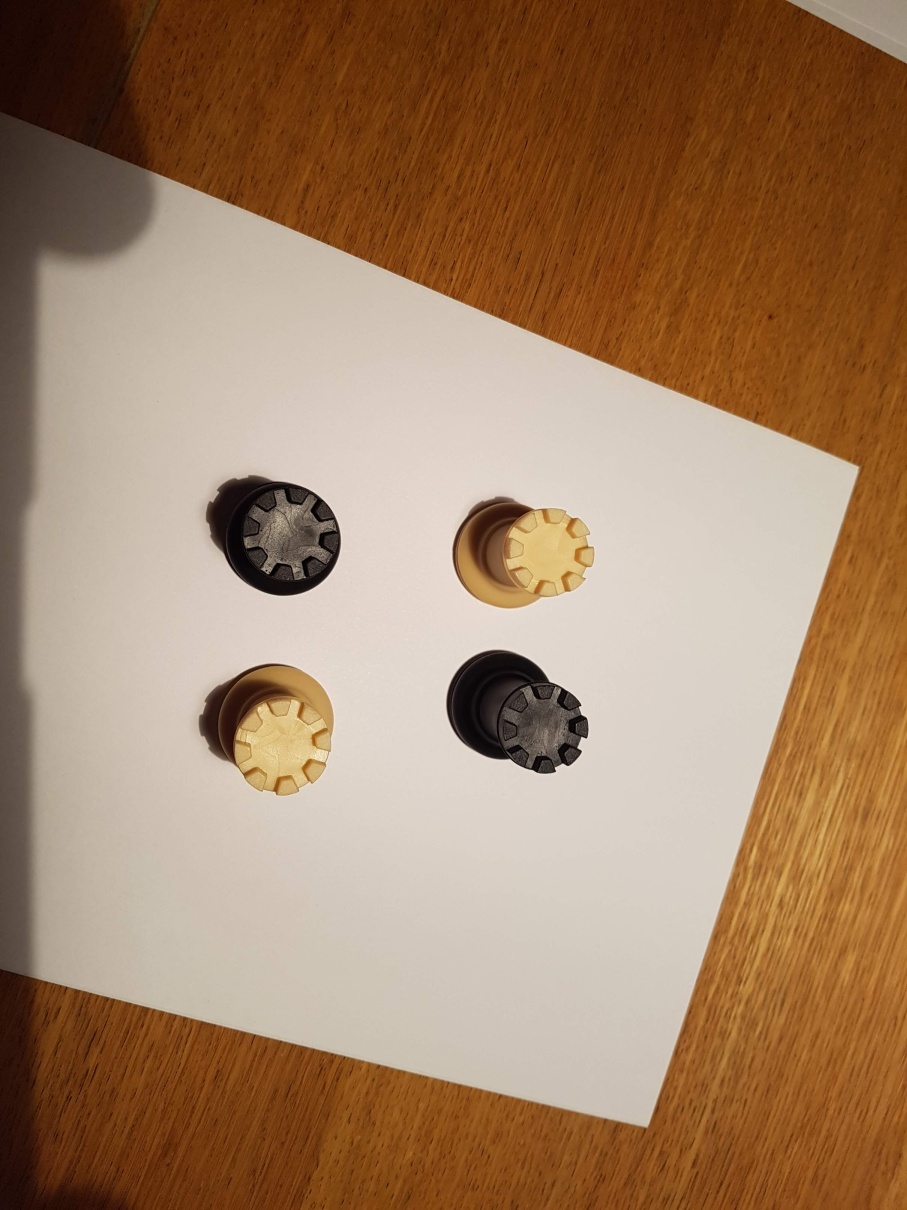chess_rook: (441, 647, 588, 775), (452, 501, 594, 611), (215, 664, 331, 796), (233, 486, 340, 595)
